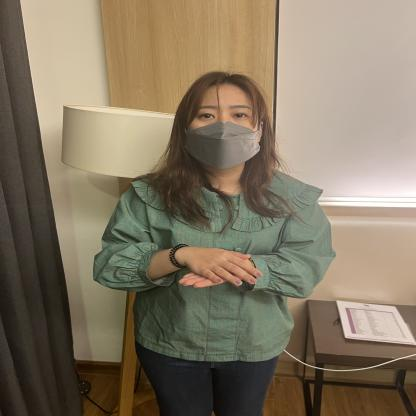Love: (94, 224, 410, 348)
